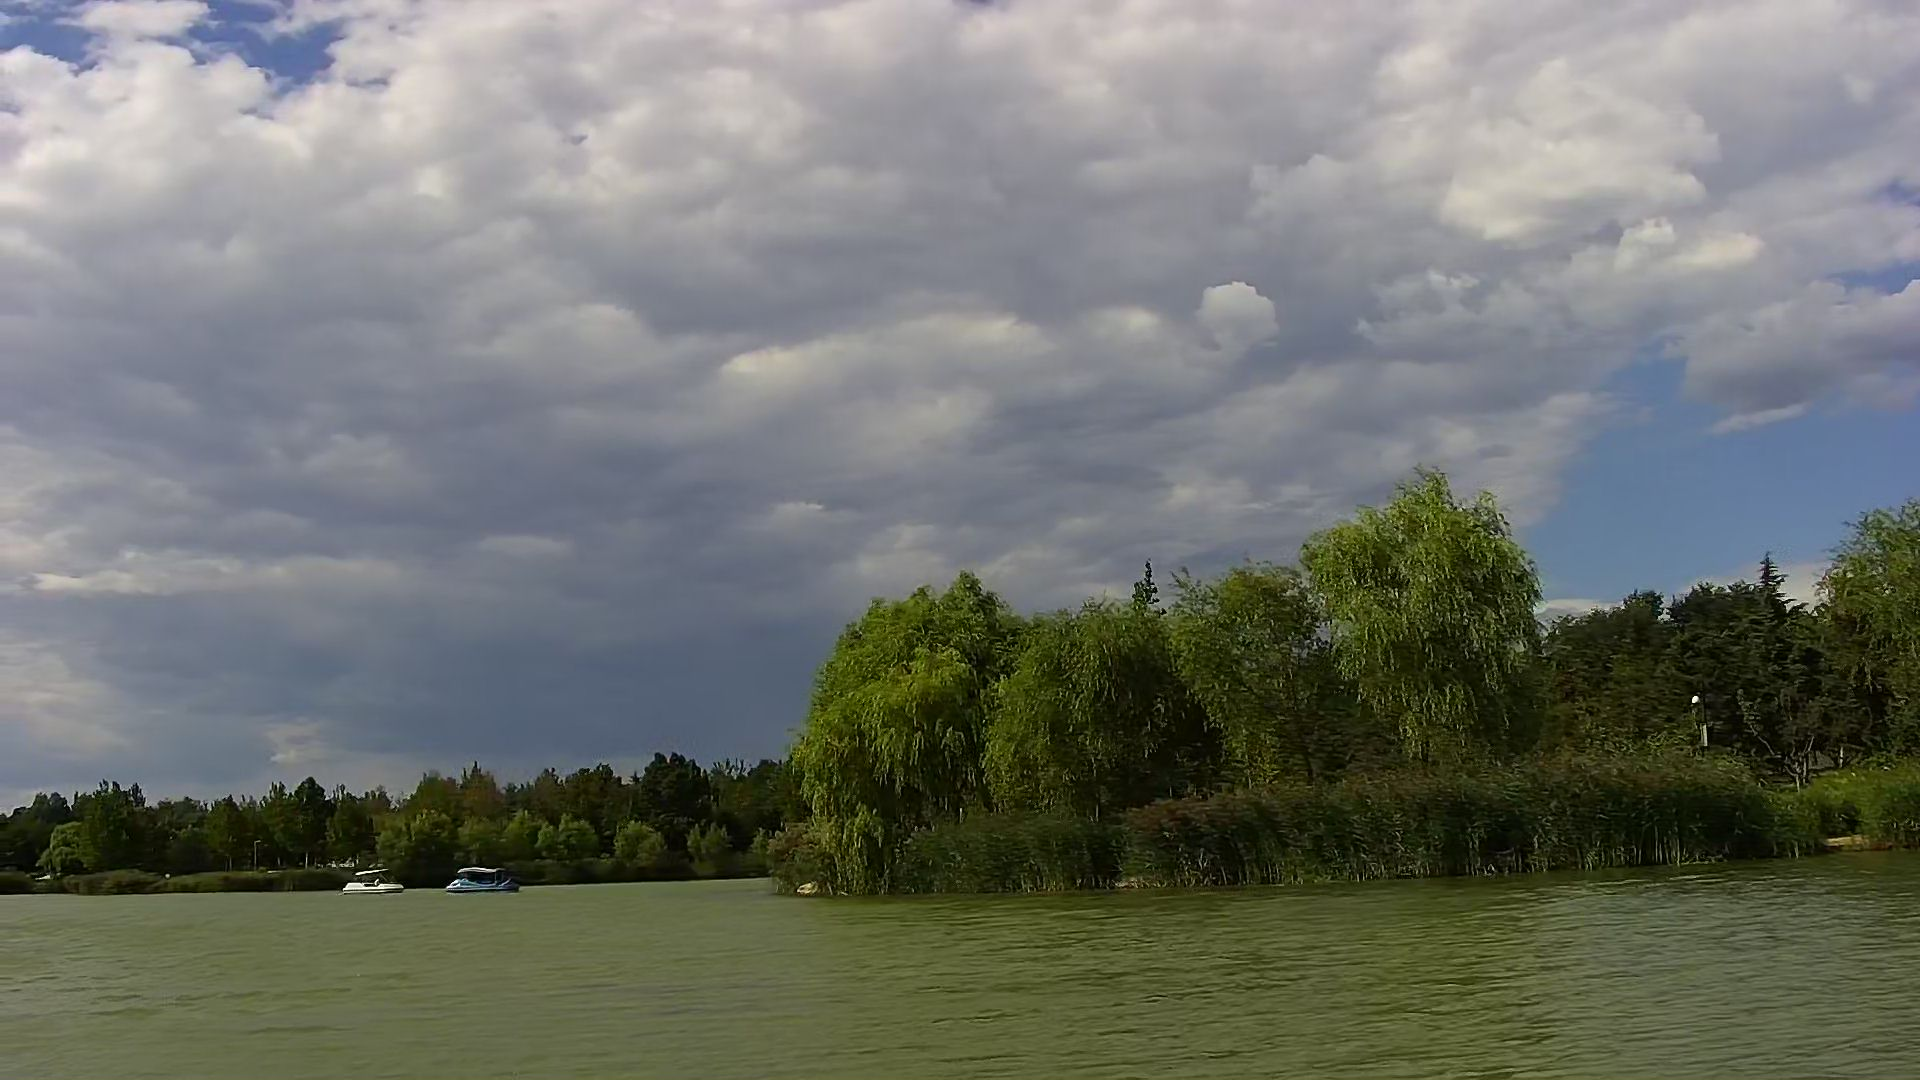boat: (438, 866, 521, 897), (339, 865, 406, 899)
rock: (790, 880, 820, 899)
